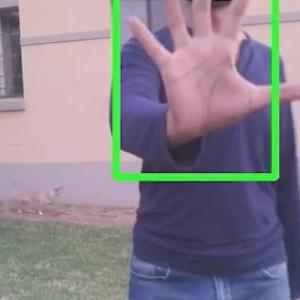follow_hand: (121, 0, 299, 150)
